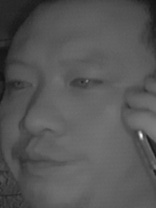eye: (67, 71, 102, 94), (5, 74, 32, 94)
mouth: (19, 144, 79, 178)
